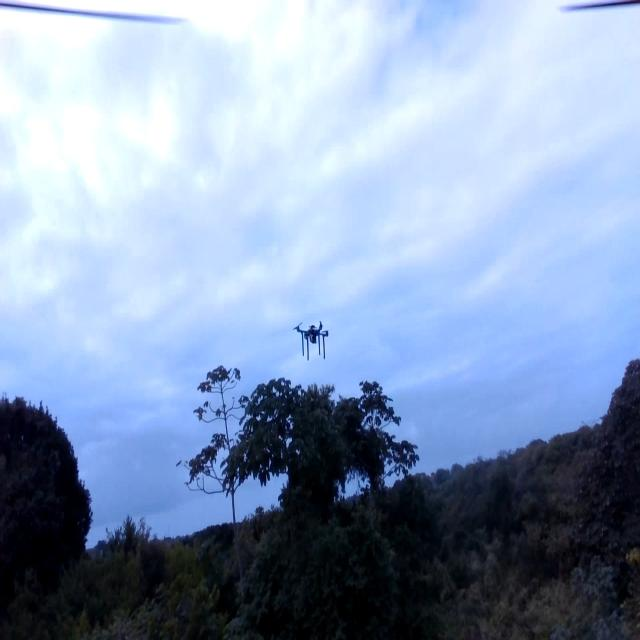-uav-: (288, 308, 336, 369)
